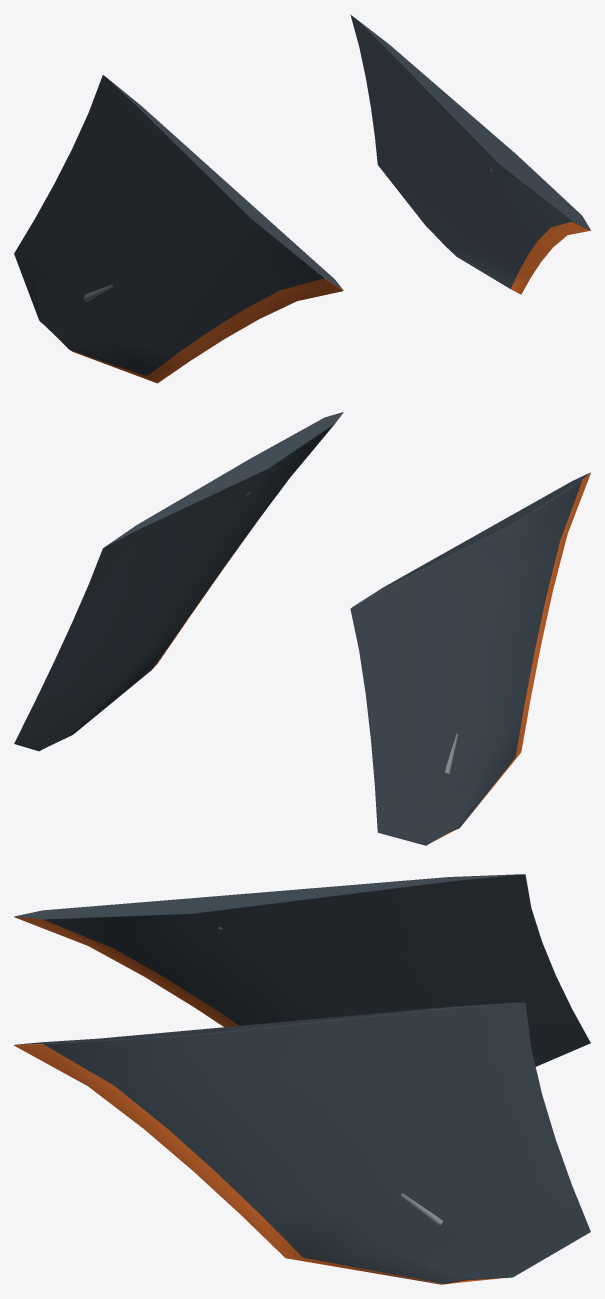
The model's file is bastion_tail_twin.fbx.
3 views of the same model, one above another, from view 1: azimuth 30°, elevation 25°; view 2: azimuth 150°, elevation 25°; view 3: azimuth 270°, elevation 25° (orthographic). The views are drawn at different scales.
Parts seen in each view (by area): view 1: Tail_Twin; view 2: Tail_Twin; view 3: Tail_Twin.
Boxes of the visible parts, bbox=[...] form: Tail_Twin: bbox=[14, 14, 590, 383]; Tail_Twin: bbox=[14, 412, 590, 845]; Tail_Twin: bbox=[14, 874, 590, 1284].
Size of the model in its own units: 83.97 by 47.21 by 100.
